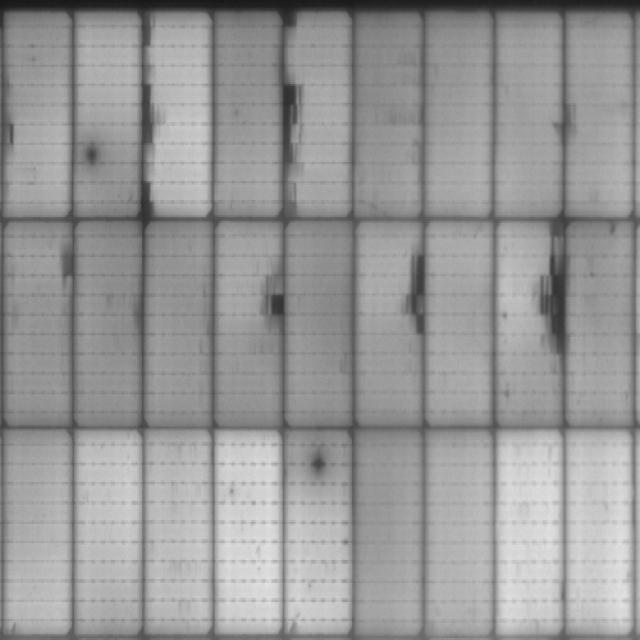BLACK SPOT: (538, 217, 570, 355), (138, 84, 160, 218), (281, 72, 302, 192), (412, 254, 430, 340), (264, 278, 288, 323), (304, 450, 330, 480), (84, 138, 101, 169)
